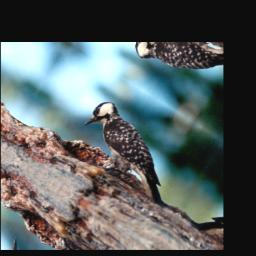Woodpecker: (64, 87, 202, 213)
